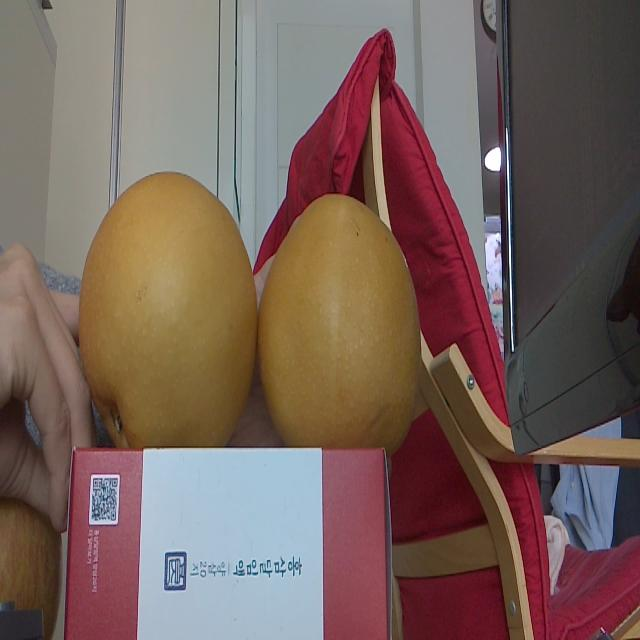pear: (78, 172, 258, 450), (255, 193, 421, 458)
